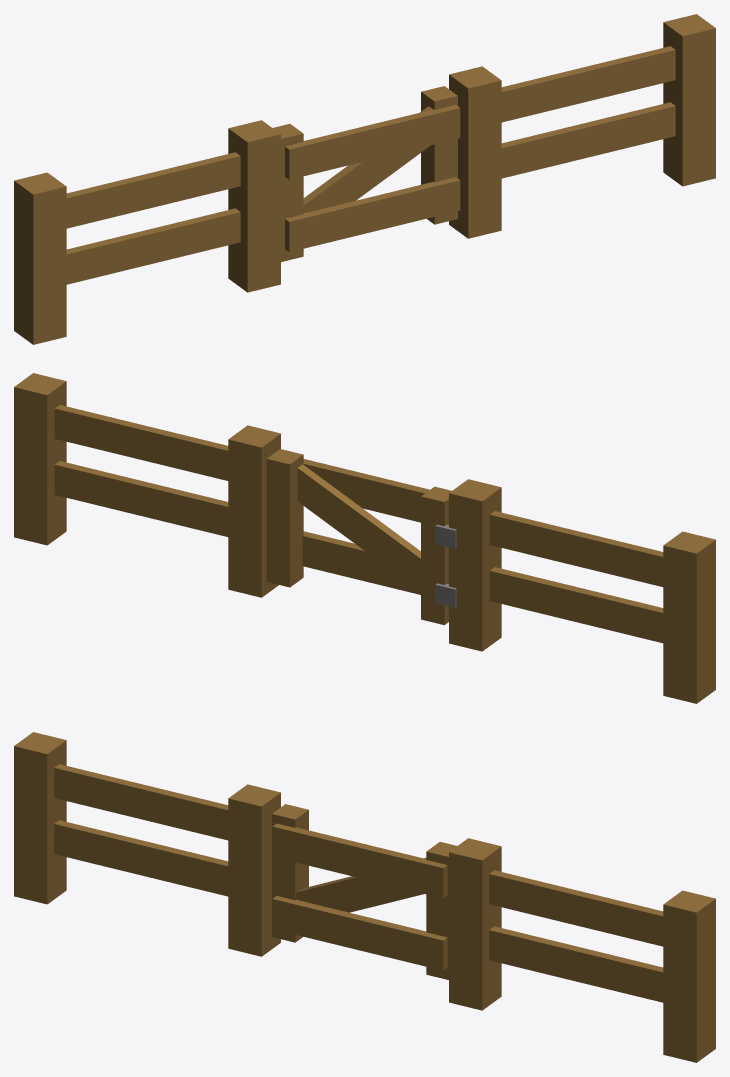
The model's file is Fence_WoodGate.gltf.
3 views of the same model, one above another, from view 1: azimuth 30°, elevation 25°; view 2: azimuth 150°, elevation 25°; view 3: azimuth 330°, elevation 25° (orthographic).
Visible parts, largest first — view 1: SF_Prop_Fence_WoodGate_01, SF_Prop_Gate; view 2: SF_Prop_Fence_WoodGate_01, SF_Prop_Gate; view 3: SF_Prop_Fence_WoodGate_01, SF_Prop_Gate.
Boxes of the visible parts, box(x1,y1,x2,y2) form: SF_Prop_Fence_WoodGate_01: box(14, 14, 715, 344); SF_Prop_Gate: box(273, 86, 460, 261); SF_Prop_Fence_WoodGate_01: box(14, 373, 715, 703); SF_Prop_Gate: box(266, 449, 451, 625); SF_Prop_Fence_WoodGate_01: box(14, 732, 715, 1062); SF_Prop_Gate: box(272, 804, 456, 979).
Size of the model in its own units: 0.1051 by 0.0221 by 0.00556.
1 material, 1 textured.
